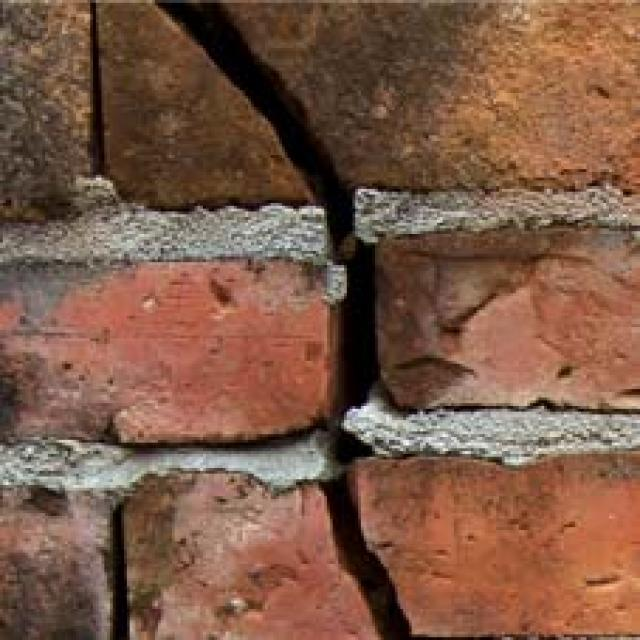Crack: (122, 0, 466, 640)
